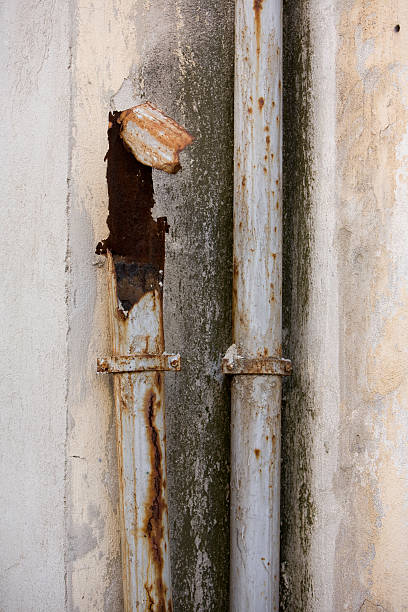crack: (138, 382, 172, 575)
